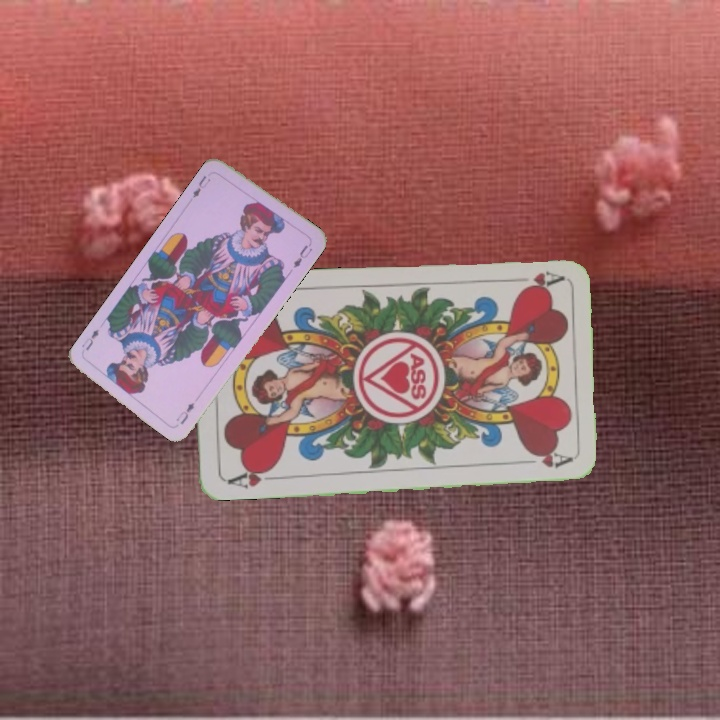EU: (188, 171, 213, 200), (172, 398, 197, 427)
HA: (223, 463, 282, 491), (506, 267, 565, 295)
